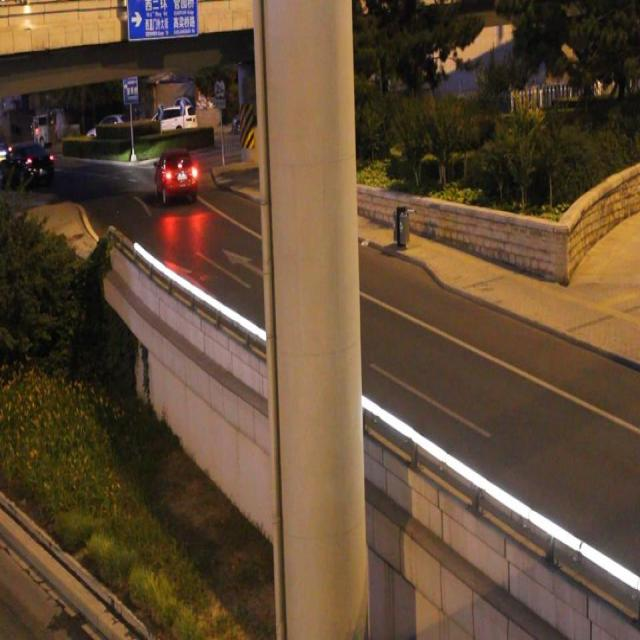car: (154, 148, 198, 203)
